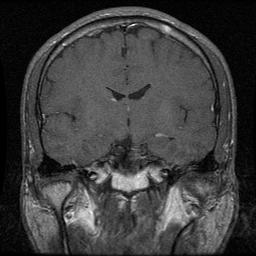Pituirity_tumour: (87, 157, 170, 191)
